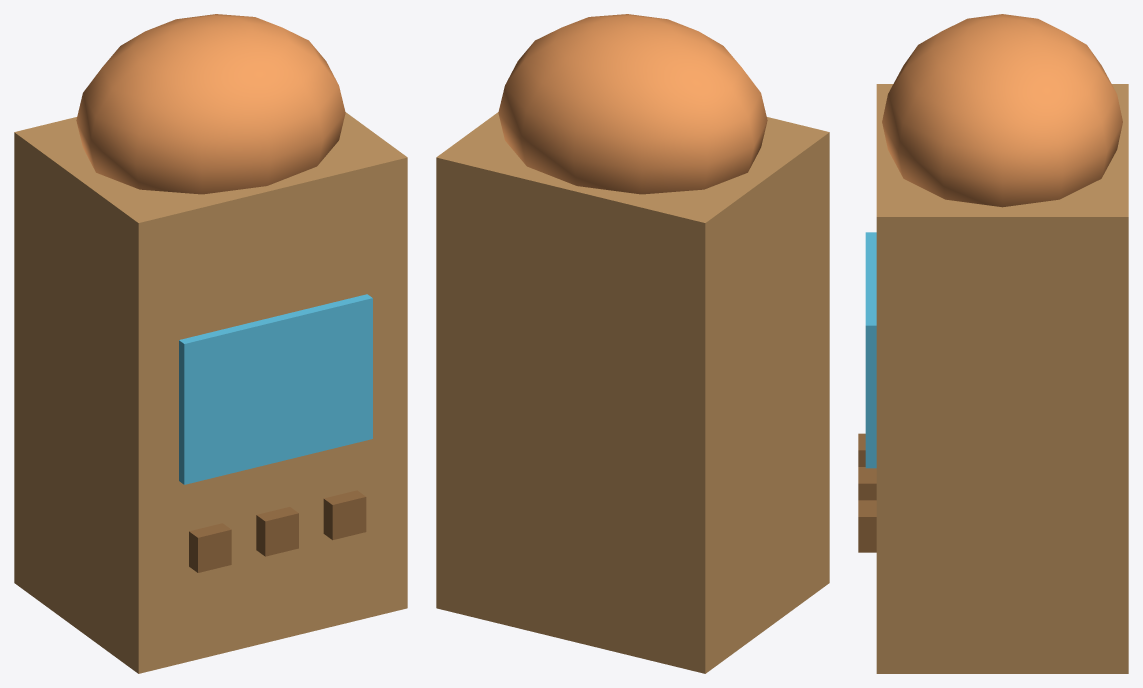
The model's file is jukebox.glb.
The picture shows the model from 3 angles, left to right: view 1: azimuth 30°, elevation 25°; view 2: azimuth 150°, elevation 25°; view 3: azimuth 270°, elevation 25°; orthographic projection.
Visible parts, largest first — view 1: jukebox; view 2: jukebox; view 3: jukebox.
Part boxes in pixels (box(x1,y1,x2,y2)): jukebox: box(14, 14, 407, 673); jukebox: box(436, 14, 829, 673); jukebox: box(858, 14, 1128, 673).
Bounding box in the file's own units: 20 × 40.3 × 17.15.
